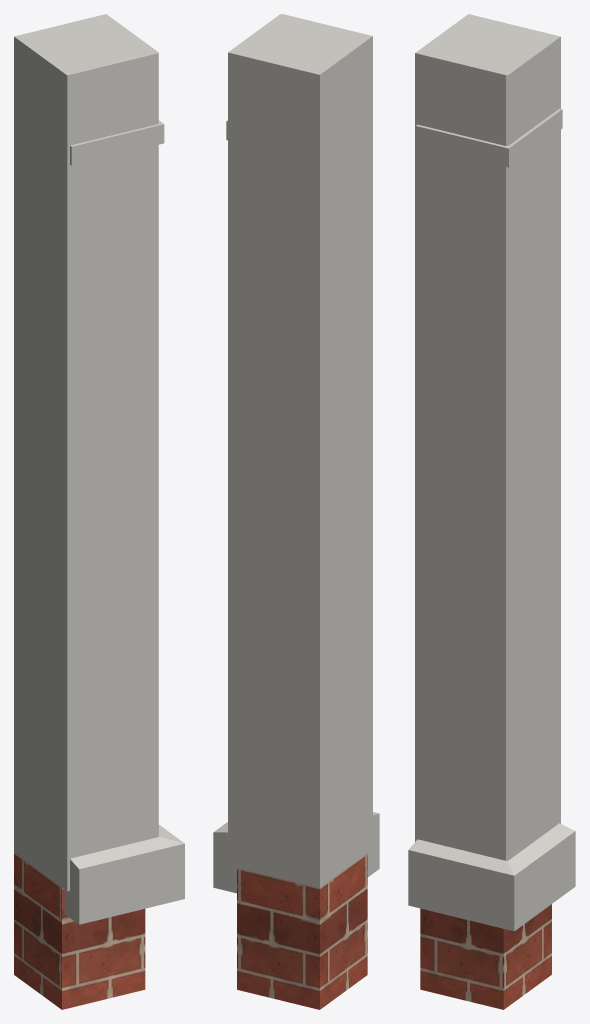
File: corner_siding.glb
3 renders of one model, left to right at view 1: azimuth 30°, elevation 25°; view 2: azimuth 150°, elevation 25°; view 3: azimuth 330°, elevation 25°, orthographic.
Visible parts, largest first — view 1: corner_siding_trim, corner_siding_brick; view 2: corner_siding_trim, corner_siding_brick; view 3: corner_siding_trim, corner_siding_brick.
Part boxes in pixels (x1,y1,x2,y2): corner_siding_trim: (14, 14, 184, 924); corner_siding_brick: (14, 852, 145, 1009); corner_siding_trim: (213, 14, 379, 893); corner_siding_brick: (237, 853, 367, 1009); corner_siding_trim: (408, 14, 575, 931); corner_siding_brick: (420, 904, 551, 1009).
Size of the model in its own units: 0.417 by 3.45 by 0.417.
Materials: 2 (1 with a texture image).
